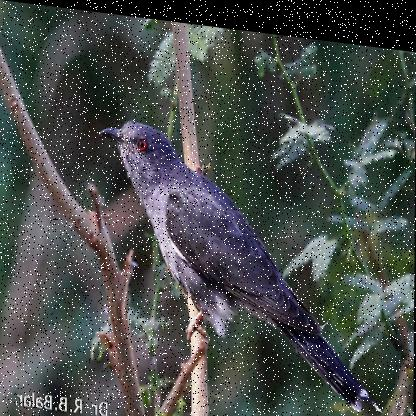Burung: (99, 113, 386, 405)
